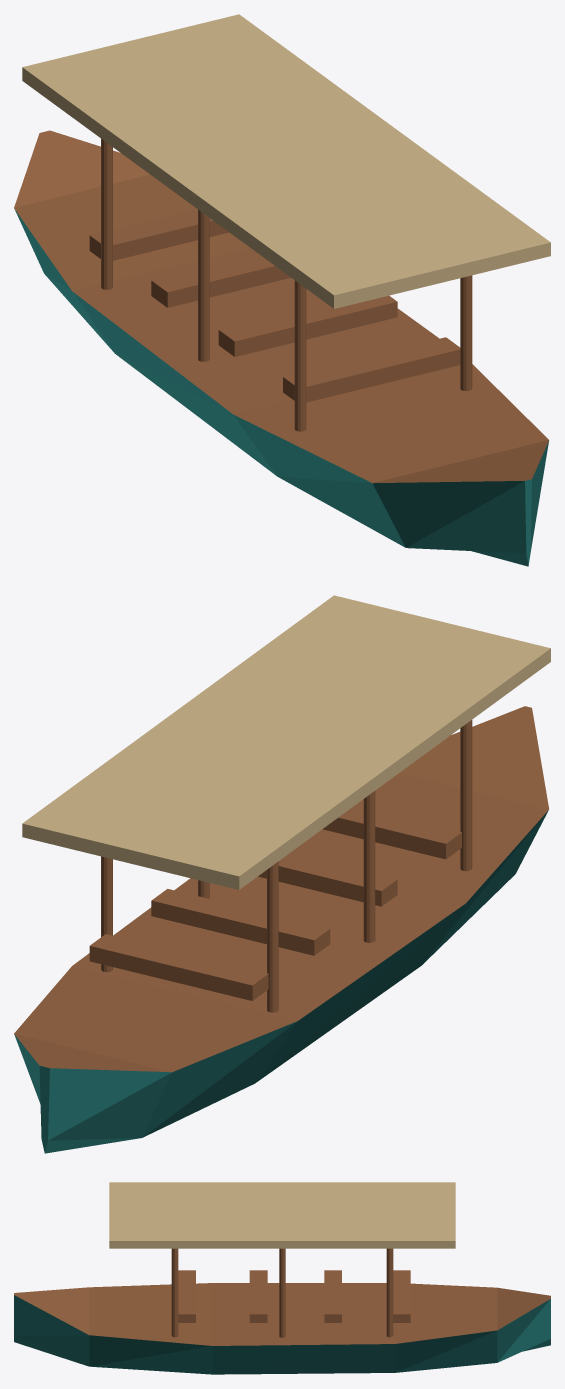
Rendered from 022_covered_passenger_vallam.glb.
3 views of the same model, one above another, from view 1: azimuth 30°, elevation 25°; view 2: azimuth 150°, elevation 25°; view 3: azimuth 270°, elevation 25° (orthographic). The views are drawn at different scales.
Visible parts, largest first — view 1: Covered passenger vallam; view 2: Covered passenger vallam; view 3: Covered passenger vallam.
Part boxes in pixels (x1,y1,x2,y2): Covered passenger vallam: [14, 14, 550, 566]; Covered passenger vallam: [14, 595, 550, 1153]; Covered passenger vallam: [14, 1182, 550, 1374].
Bounding box in the file's own units: 2.5 × 2.79 × 9.
